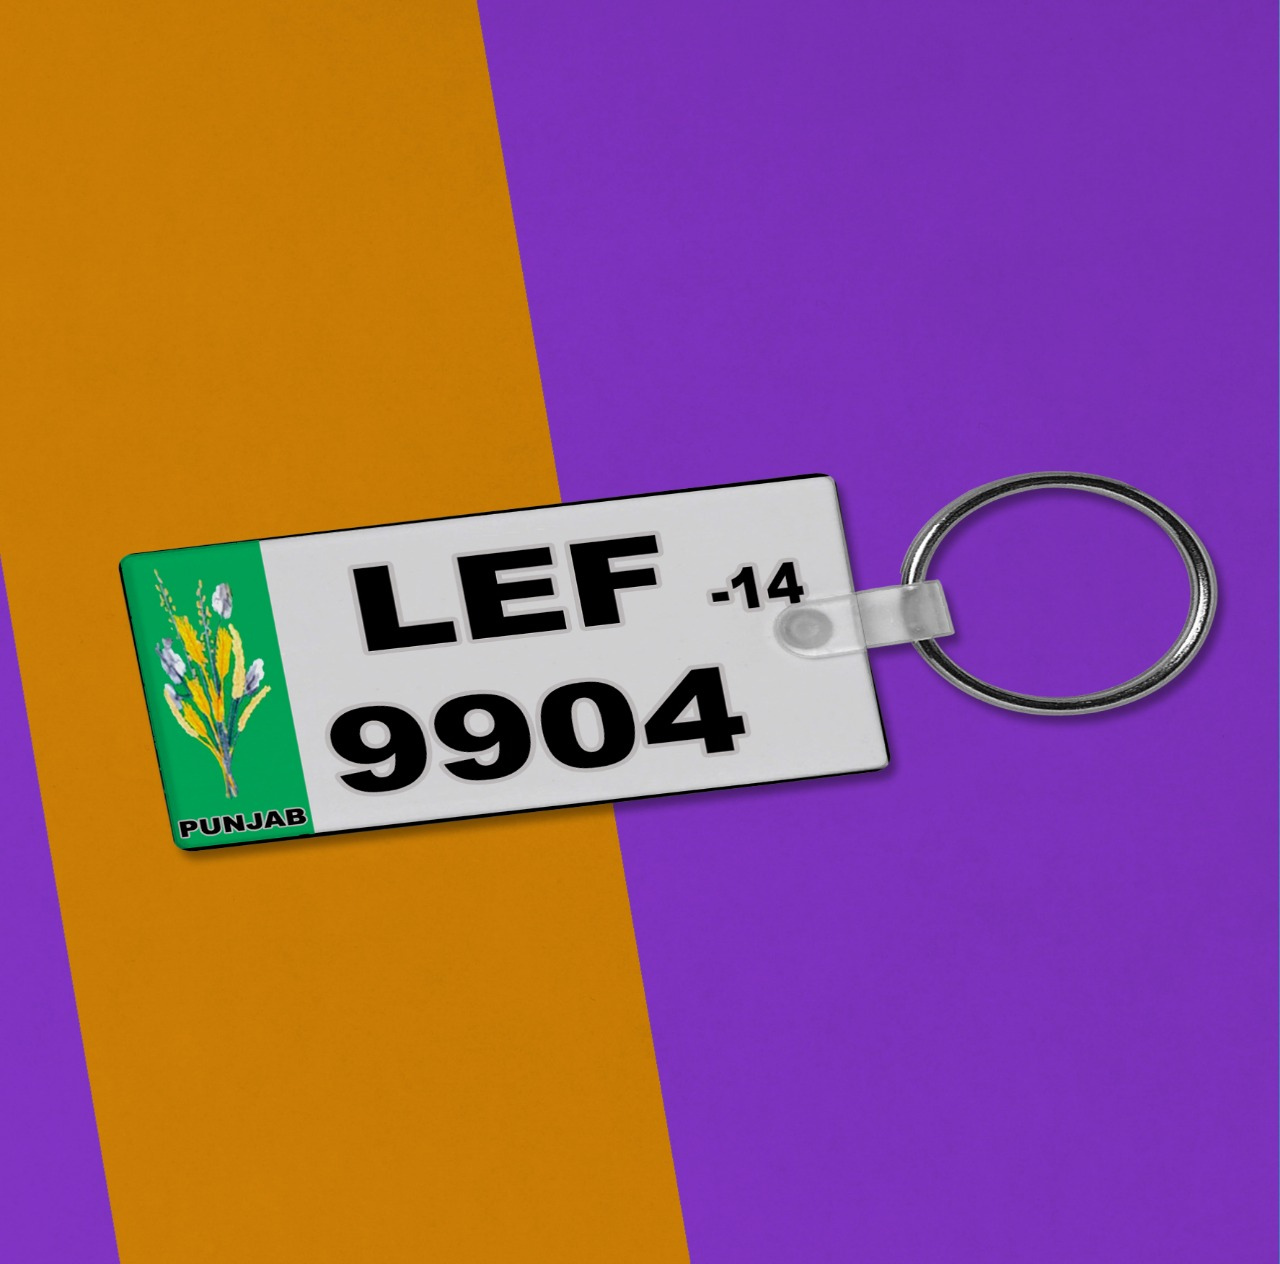plate: (89, 464, 922, 855)
